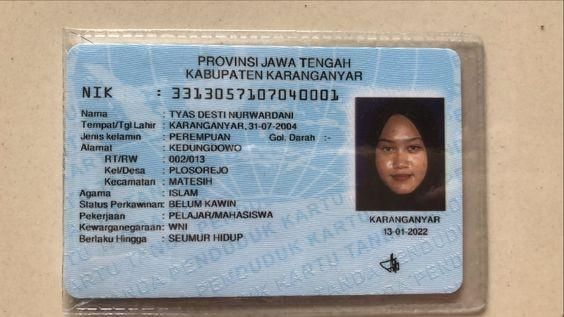ID-card: (62, 44, 457, 295)
